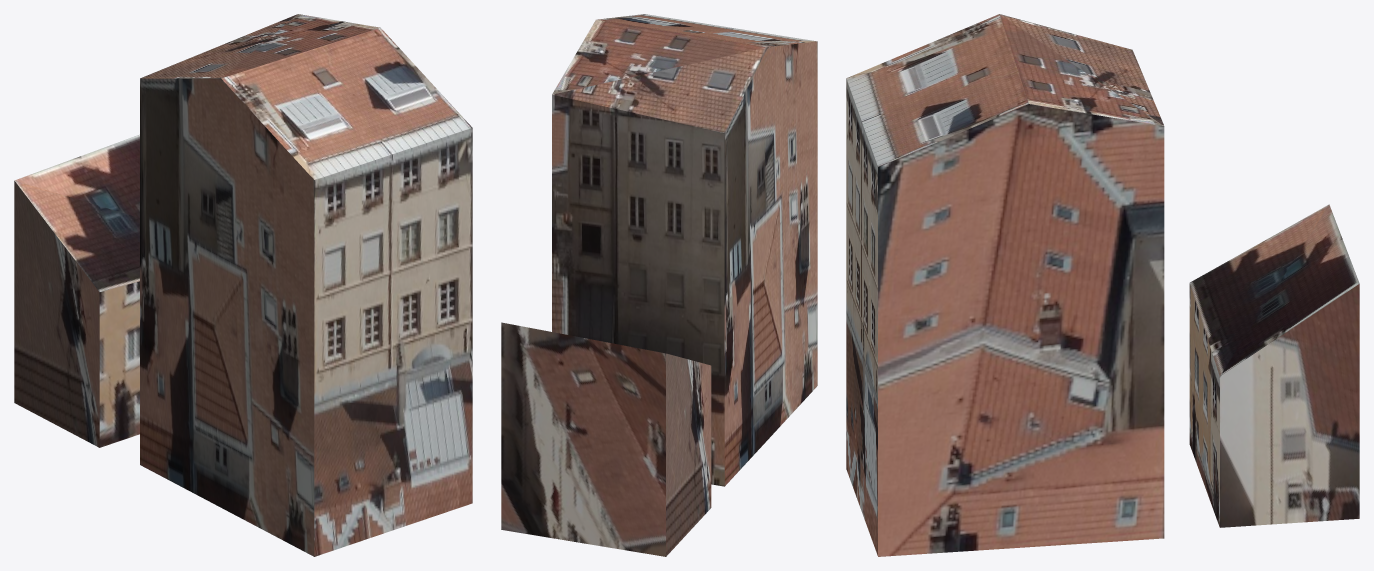
3 views of the same model, side by side, from view 1: azimuth 30°, elevation 25°; view 2: azimuth 150°, elevation 25°; view 3: azimuth 270°, elevation 25° (orthographic). The views are drawn at different scales.
Parts seen in each view (by area): view 1: Z_UP; view 2: Z_UP; view 3: Z_UP.
Boxes of the visible parts, x1,y1,x2,y2 form: Z_UP: (14,14,472,556); Z_UP: (501,14,817,556); Z_UP: (846,14,1359,556).
Bounding box in the file's own units: 14.53 × 24.75 × 25.86.
Materials: 2 (1 with a texture image).
